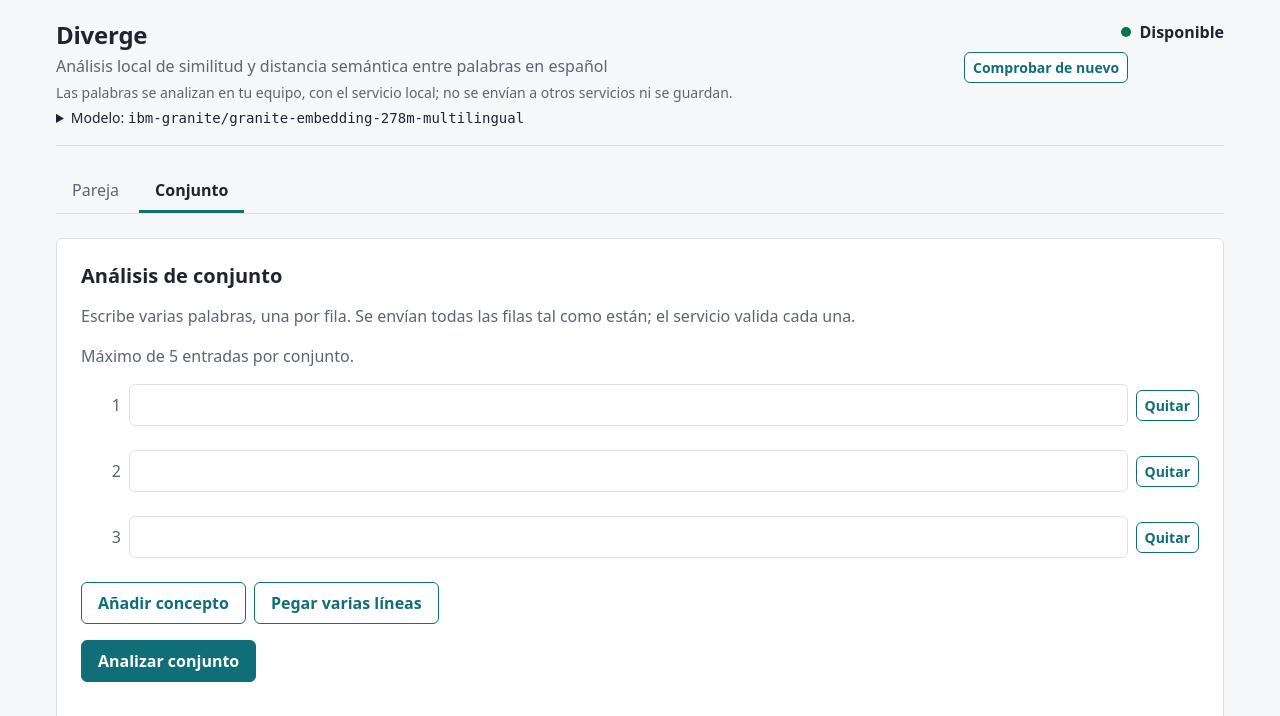
the matrix has a single tab stop and is navigated with the arrow keys
Earlier steps of the test are not shown.
Type "guerra" into the field named "Concepto 1" at coordinates (628, 405), box [129,384,1128,426]
Type "paz" into the field named "Concepto 2" at coordinates (628, 471), box [129,450,1128,492]
Type "noche" into the field named "Concepto 3" at coordinates (628, 537), box [129,516,1128,558]
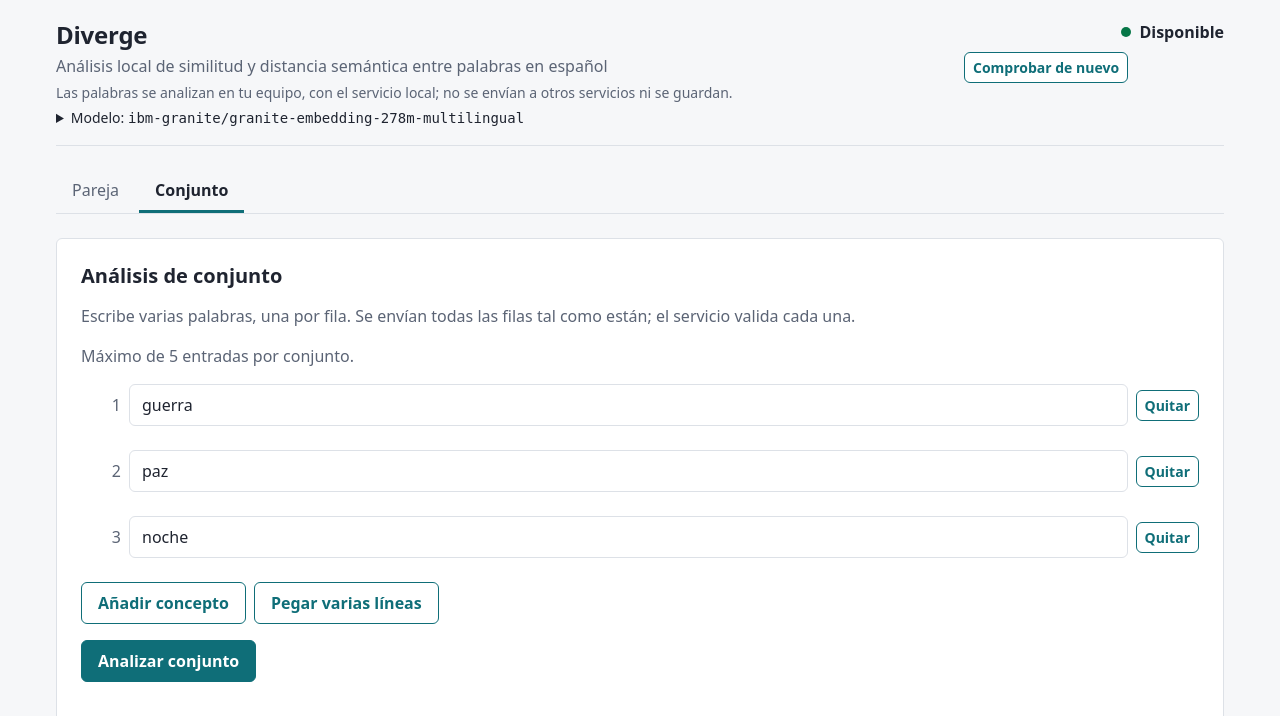
Click the button "Analizar conjunto" at coordinates (169, 661), box [81,640,256,682]
(page scrolled)
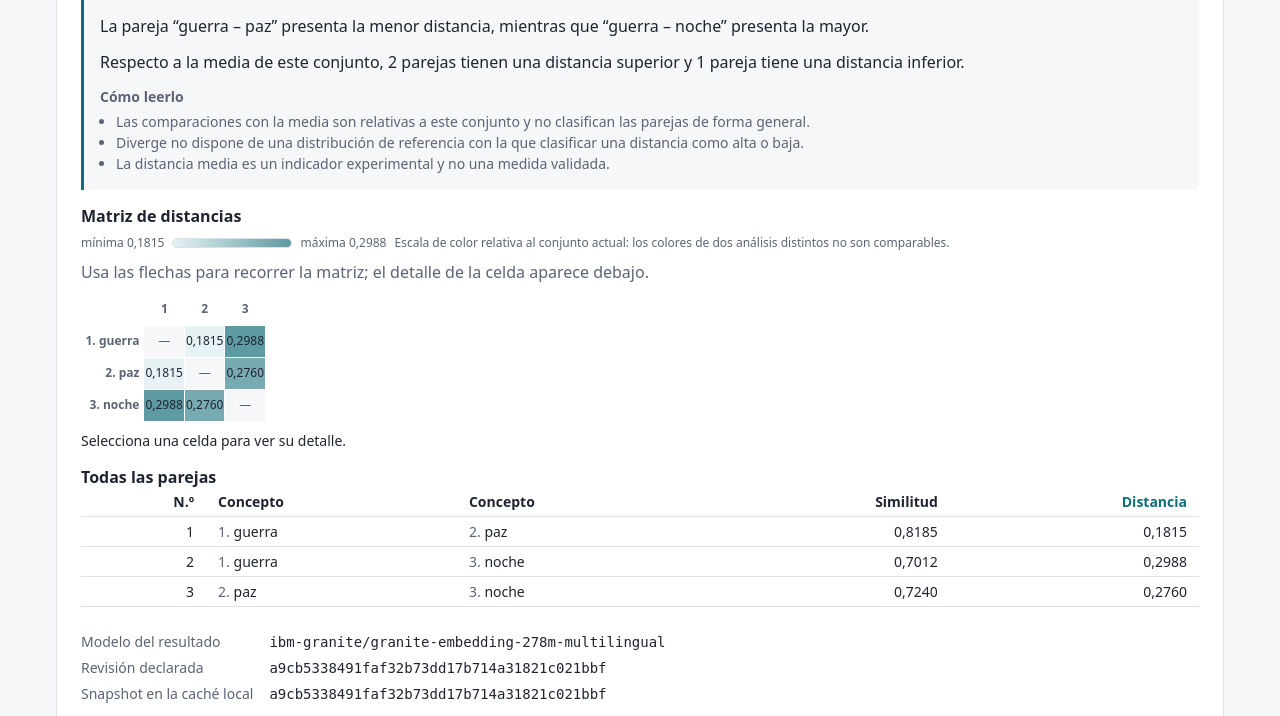
Press ArrowRight in the element named "Distancia coseno entre cada par de conceptos", box [82,292,340,421]
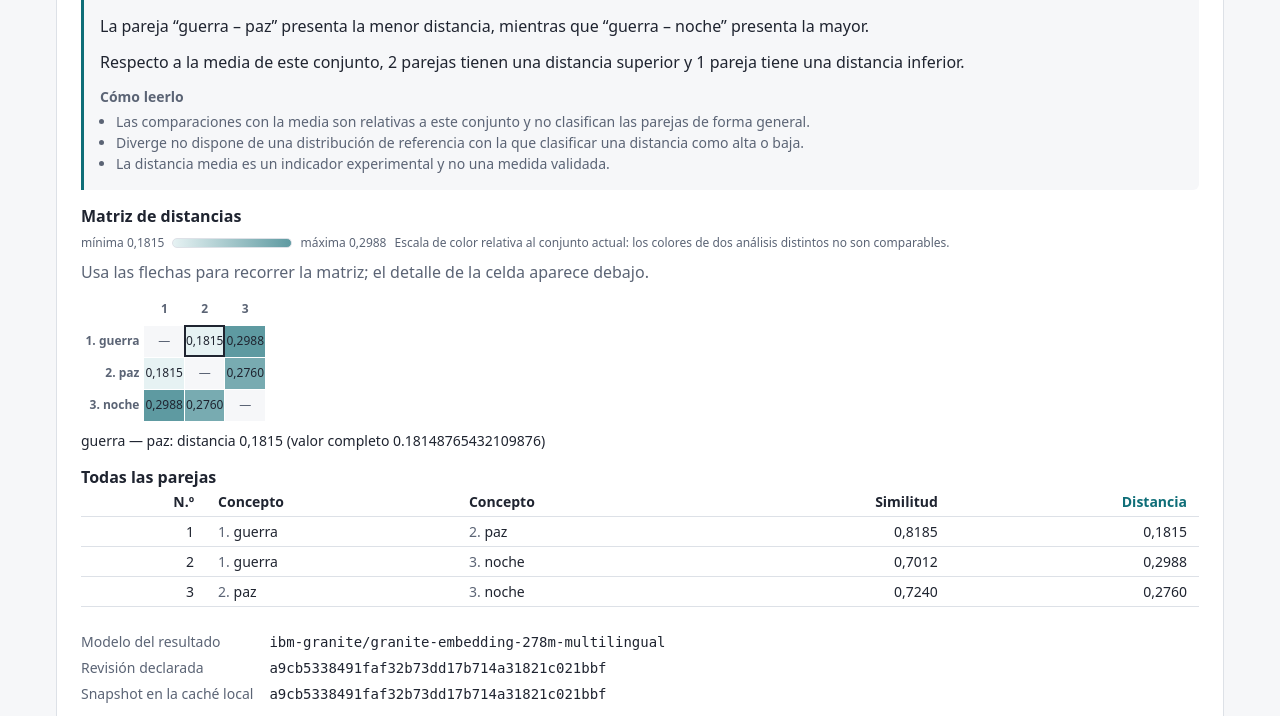
Result: the text "guerra — paz: distancia 0,1815 (valor completo 0.18148765432109876)" is shown at [81,430,545,450]
Press ArrowRight in the element named "Distancia coseno entre cada par de conceptos", box [82,292,340,421]
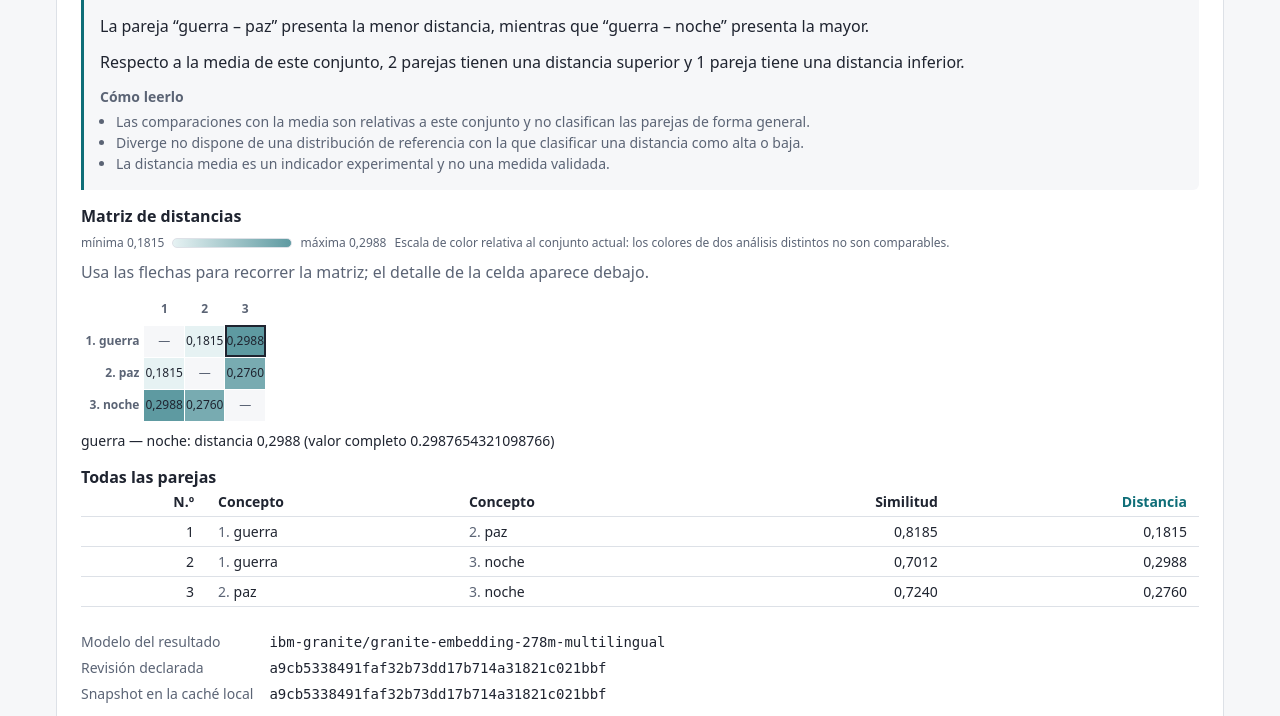
Result: the text "guerra — noche: distancia 0,2988" is shown at [81,430,554,450]
Press ArrowLeft in the element named "Distancia coseno entre cada par de conceptos", box [82,292,340,421]
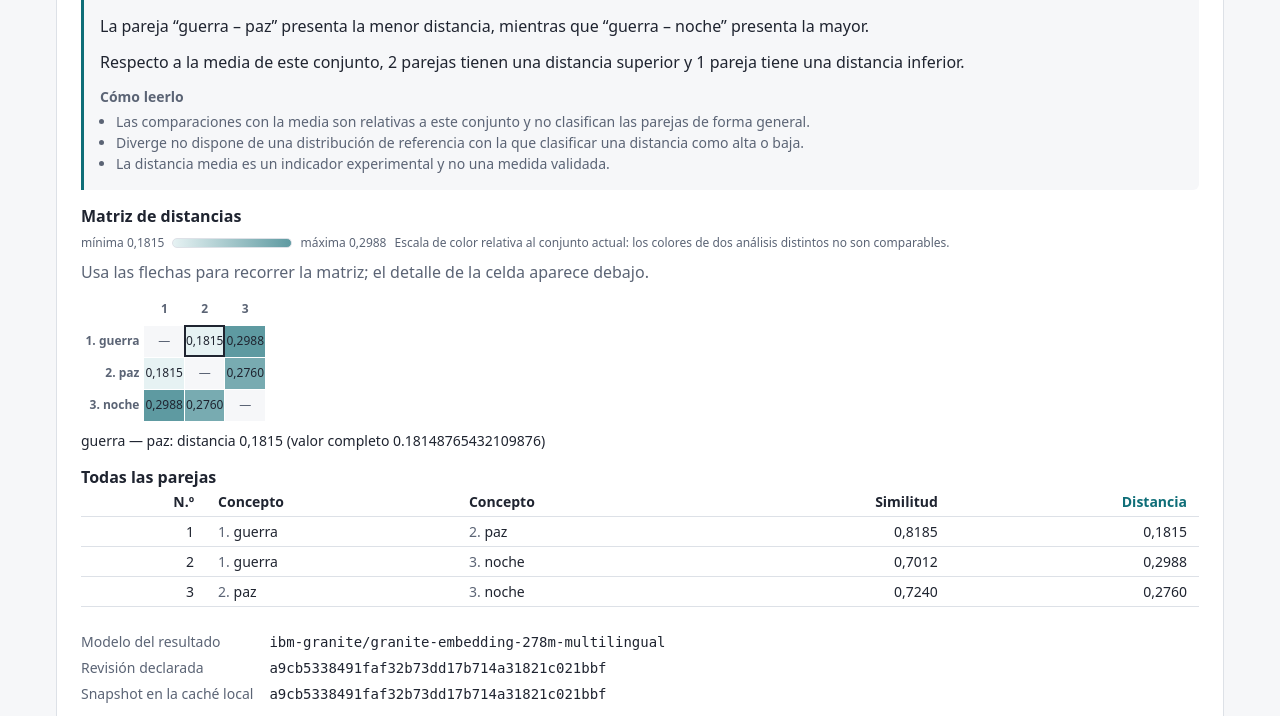
Press ArrowLeft in the element named "Distancia coseno entre cada par de conceptos", box [82,292,340,421]
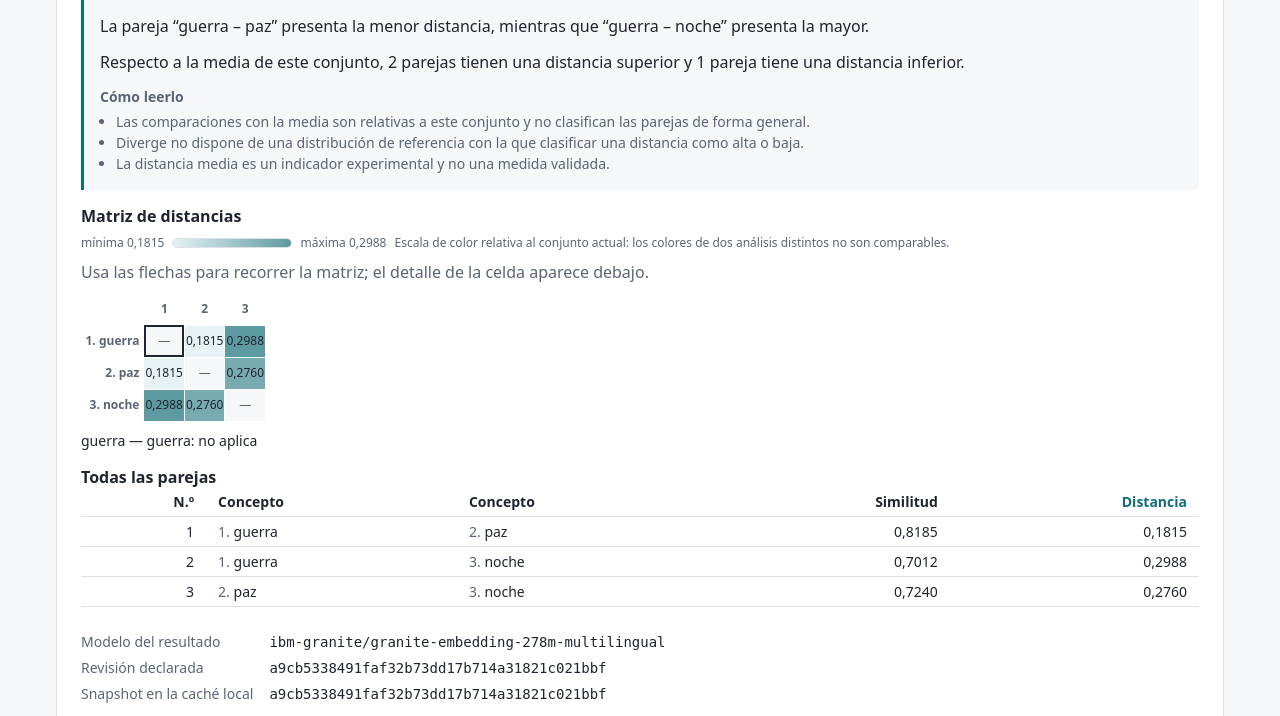
Result: the text "guerra — guerra: no aplica" is shown at [81,430,257,450]
